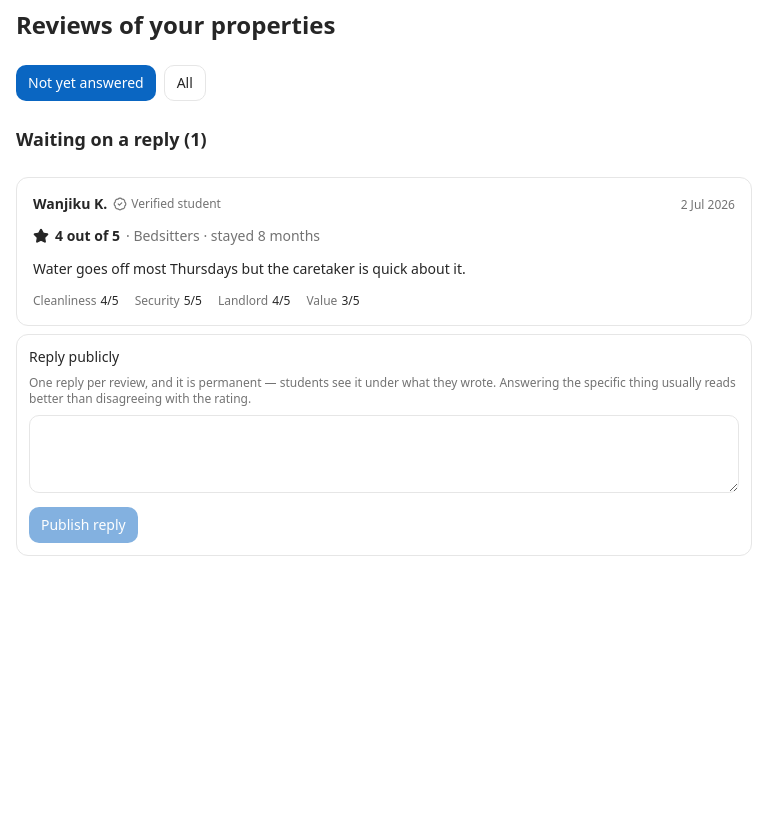
Test: the filter › shows everything when asked
Click the button "All". click: (185, 83)
box: [164, 65, 206, 101]
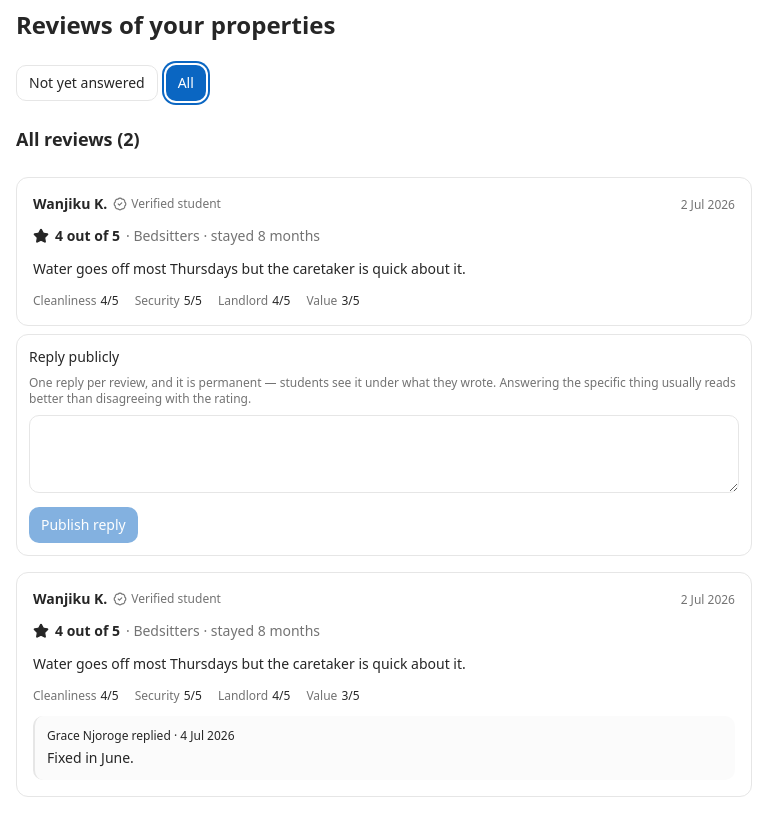
Expected: the text "Fixed in June." is shown, [47, 748, 134, 766]
